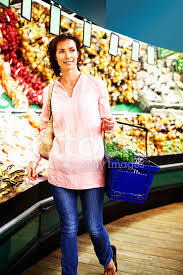with_basket: (98, 119, 159, 202)
without_mask: (50, 36, 83, 73)
